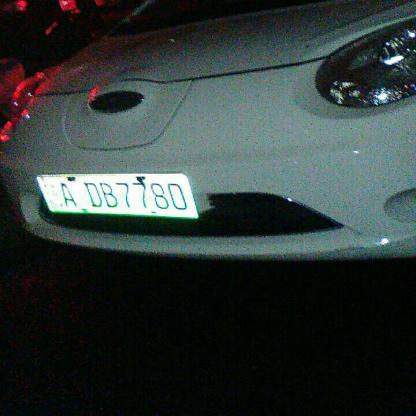lp: (48, 176, 186, 217)
